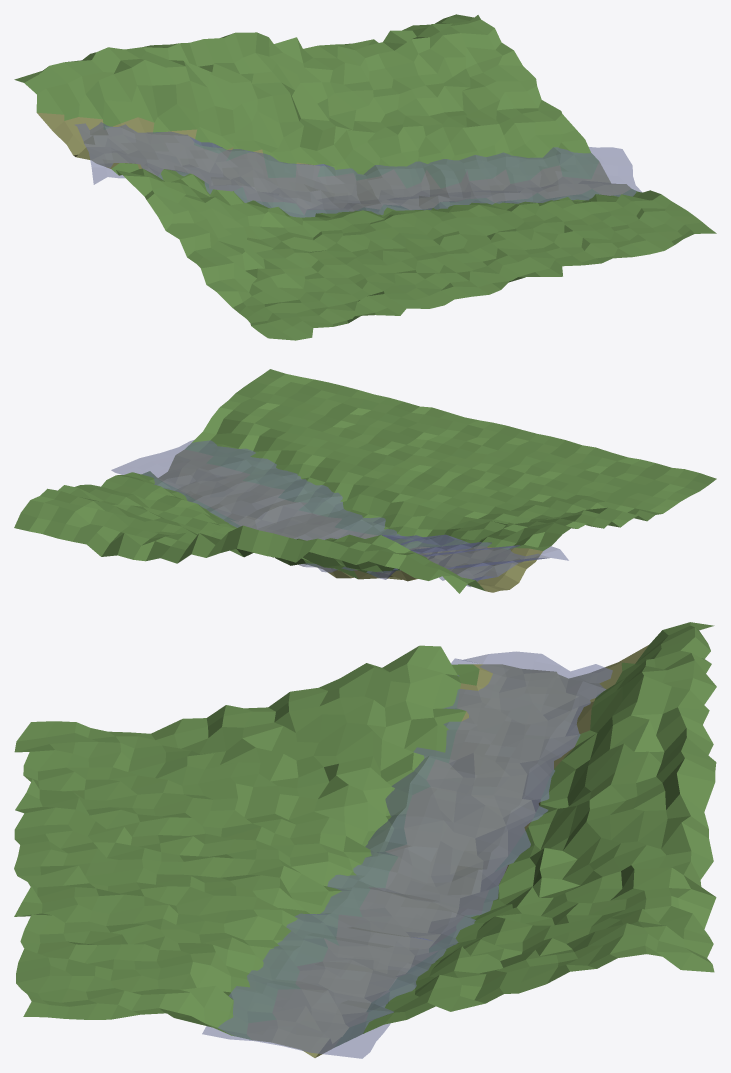
Rendered from TerrainRiviere.fbx.
3 views of the same model, one above another, from view 1: azimuth 30°, elevation 25°; view 2: azimuth 150°, elevation 25°; view 3: azimuth 270°, elevation 25° (orthographic). The views are drawn at different scales.
Visible parts, largest first — view 1: pPlane1, pPlane2; view 2: pPlane1, pPlane2; view 3: pPlane1, pPlane2.
Part boxes in pixels (x1,y1,x2,y2): pPlane1: (14, 14, 716, 340); pPlane2: (75, 122, 641, 217); pPlane1: (14, 369, 716, 593); pPlane2: (111, 440, 568, 586); pPlane1: (14, 622, 716, 1057); pPlane2: (202, 651, 612, 1058).
Bounding box in the file's own units: 223 × 52.2 × 205.
